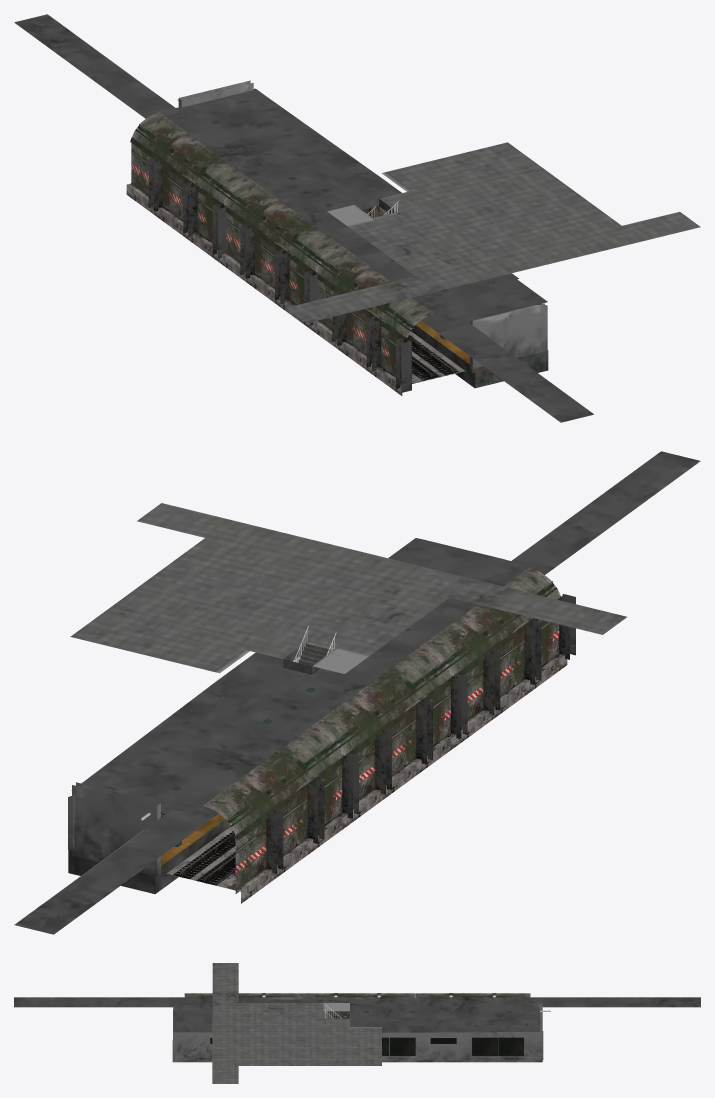
File: station-stop.glb
The picture shows the model from 3 angles, top to bottom: view 1: azimuth 30°, elevation 25°; view 2: azimuth 150°, elevation 25°; view 3: azimuth 270°, elevation 25°; orthographic projection. The views are drawn at different scales.
Parts seen in each view (by area): view 1: floor_M_Structure_0, pCube1_4_M_Tunnel_0; view 2: floor_M_Structure_0, pCube1_4_M_Tunnel_0, pCube8_M_Stairs_0; view 3: floor_M_Structure_0, GroundhogDay_M_Posters_0, pCube1_4_M_Tunnel_0.
Boxes of the visible parts, box(x1,y1,x2,y2) form: floor_M_Structure_0: box(14, 14, 700, 422); pCube1_4_M_Tunnel_0: box(126, 112, 464, 395); floor_M_Structure_0: box(14, 451, 700, 934); pCube1_4_M_Tunnel_0: box(167, 567, 575, 903); pCube8_M_Stairs_0: box(141, 625, 336, 847); floor_M_Structure_0: box(14, 963, 700, 1083); GroundhogDay_M_Posters_0: box(210, 1037, 523, 1055); pCube1_4_M_Tunnel_0: box(184, 993, 530, 1018).
Bounding box in the file's own units: 23.17 × 4.99 × 55.71.
5 materials, 5 textured.
